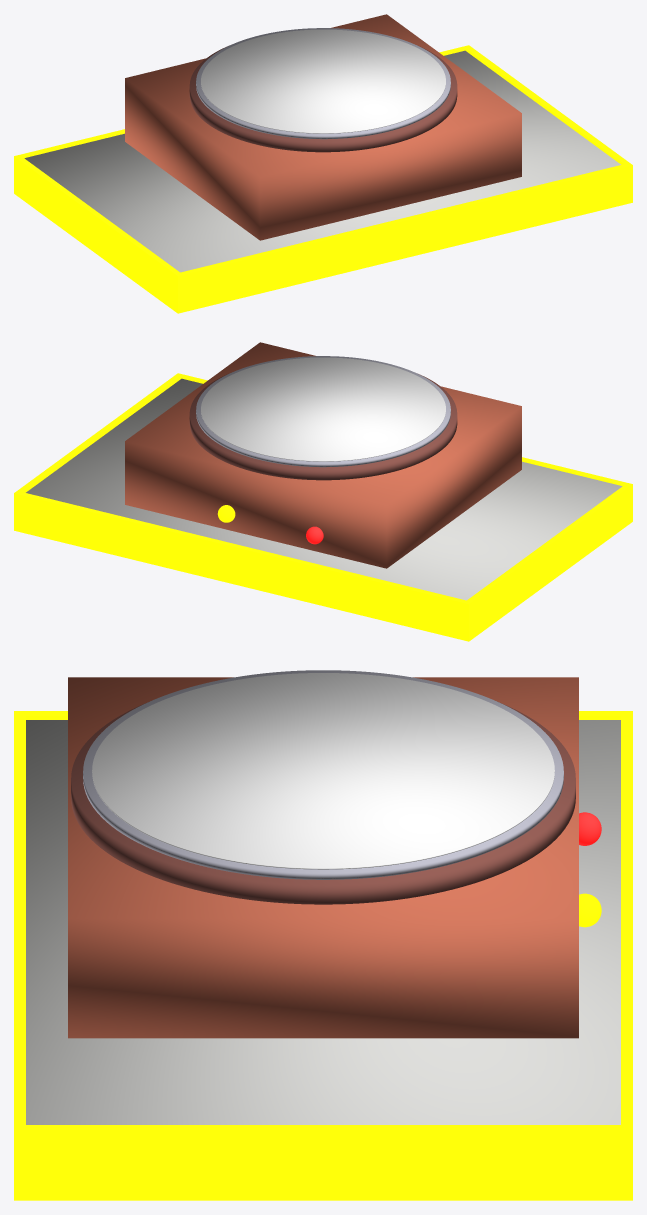
Rendered from hardbakeglb.glb.
3 renders of one model, top to bottom at view 1: azimuth 30°, elevation 25°; view 2: azimuth 150°, elevation 25°; view 3: azimuth 270°, elevation 25°, orthographic. The views are drawn at different scales.
Parts seen in each view (by area): view 1: HotPlate_Body, Outer_Tray, Die_Grid, Yellow_Border_1, Yellow_Border_3, Wafer_Chuck, Silicon_Wafer, Yellow_Border_2, Yellow_Border_0; view 2: HotPlate_Body, Outer_Tray, Die_Grid, Yellow_Border_0, Yellow_Border_3, Wafer_Chuck, Silicon_Wafer, Yellow_Border_2, Yellow_Border_1; view 3: HotPlate_Body, Outer_Tray, Die_Grid, Yellow_Border_2, Wafer_Chuck, Silicon_Wafer, Yellow_Border_0, Yellow_Border_1, Yellow_Border_3.
Part boxes in pixels (bbox=[...]): HotPlate_Body: bbox=[125, 14, 521, 240]; Outer_Tray: bbox=[24, 50, 620, 272]; Die_Grid: bbox=[201, 29, 445, 133]; Yellow_Border_1: bbox=[174, 163, 632, 313]; Yellow_Border_3: bbox=[16, 156, 179, 311]; Wafer_Chuck: bbox=[189, 46, 457, 152]; Silicon_Wafer: bbox=[196, 28, 450, 139]; Yellow_Border_2: bbox=[466, 47, 629, 164]; Yellow_Border_0: bbox=[14, 45, 471, 195]; HotPlate_Body: bbox=[125, 342, 521, 568]; Outer_Tray: bbox=[26, 378, 622, 600]; Die_Grid: bbox=[201, 357, 445, 461]; Yellow_Border_0: bbox=[14, 491, 471, 641]; Yellow_Border_3: bbox=[467, 484, 631, 639]; Wafer_Chuck: bbox=[189, 374, 457, 480]; Silicon_Wafer: bbox=[196, 356, 450, 467]; Yellow_Border_2: bbox=[17, 375, 180, 492]; Yellow_Border_1: bbox=[175, 373, 632, 522]; HotPlate_Body: bbox=[68, 677, 578, 1038]; Outer_Tray: bbox=[26, 720, 620, 1124]; Die_Grid: bbox=[92, 673, 554, 869]; Yellow_Border_2: bbox=[20, 1125, 626, 1200]; Wafer_Chuck: bbox=[71, 701, 575, 904]; Silicon_Wafer: bbox=[83, 670, 563, 879]; Yellow_Border_0: bbox=[621, 711, 632, 1200]; Yellow_Border_1: bbox=[14, 711, 25, 1200]; Yellow_Border_3: bbox=[20, 711, 626, 719].
Bounding box in the file's own units: 1.65 × 0.405 × 1.03.
